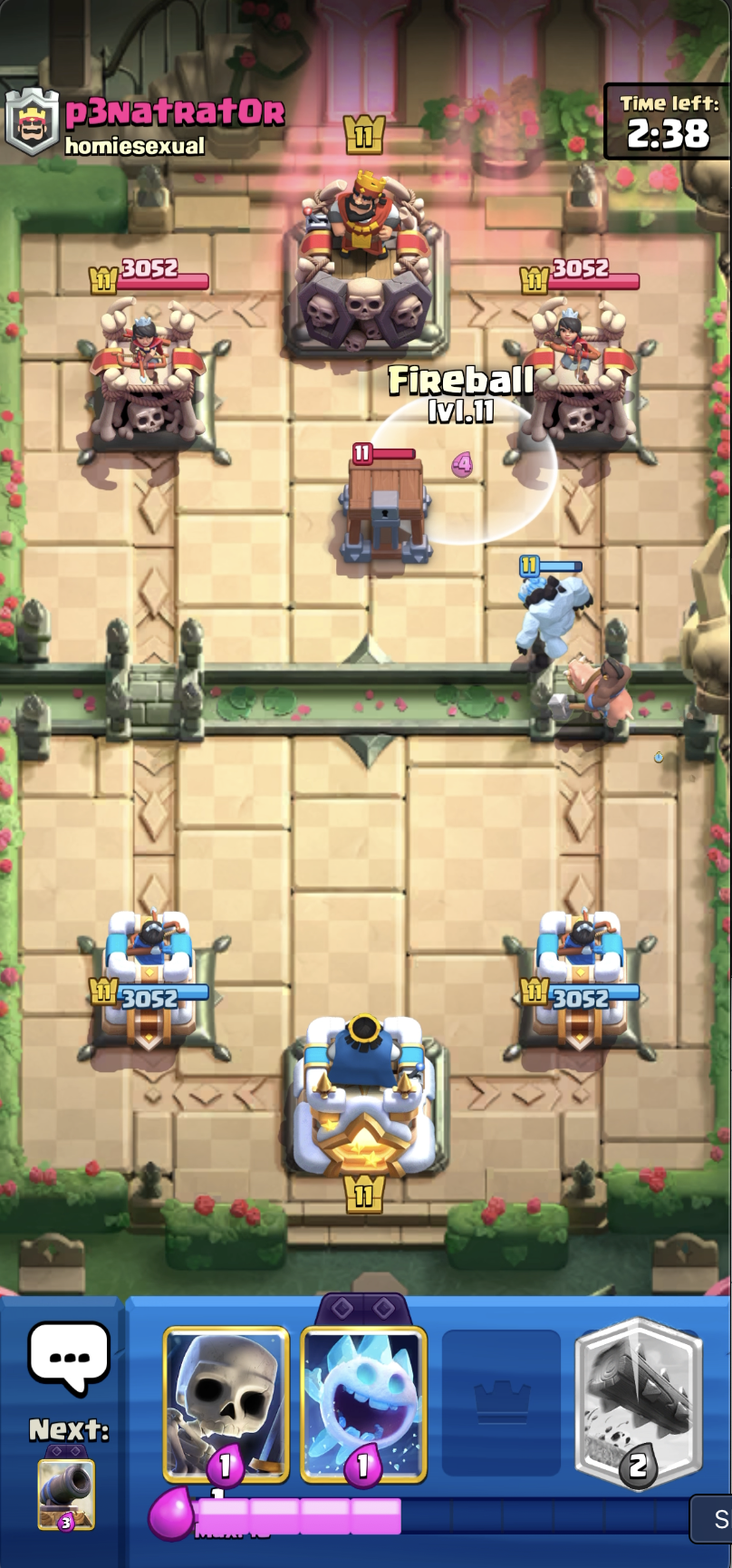goblin-cage: (339, 441, 433, 563)
